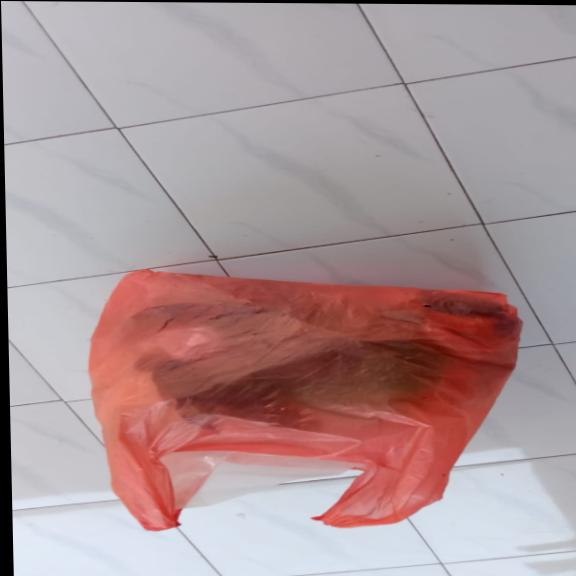Plastik: (86, 267, 522, 532)
